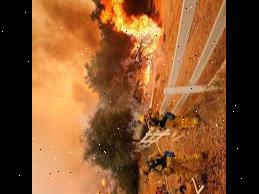fire: (92, 0, 169, 63)
